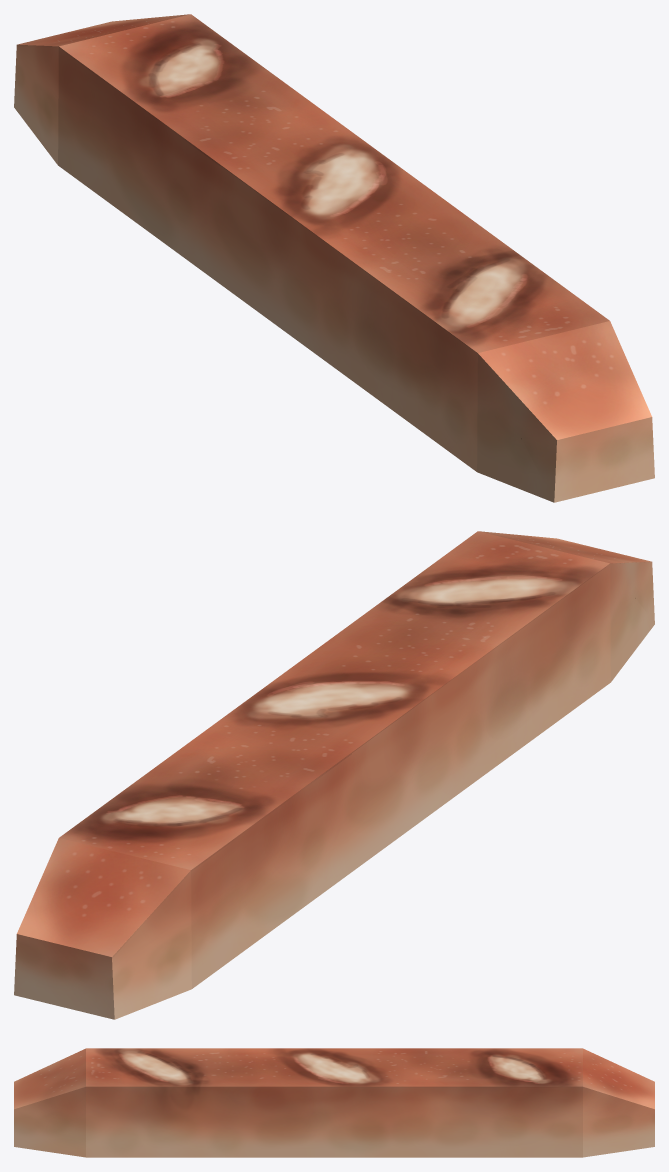
The model's file is baguette.gltf.
The picture shows the model from 3 angles, top to bottom: view 1: azimuth 30°, elevation 25°; view 2: azimuth 150°, elevation 25°; view 3: azimuth 270°, elevation 25°; orthographic projection. The views are drawn at different scales.
Visible parts, largest first — view 1: Baguette; view 2: Baguette; view 3: Baguette.
Part boxes in pixels (bbox=[...]): Baguette: bbox=[14, 14, 654, 502]; Baguette: bbox=[14, 531, 654, 1019]; Baguette: bbox=[14, 1048, 654, 1157].
Size of the model in its own units: 0.093 by 0.0789 by 0.65.
Materials: 1 (1 with a texture image).
